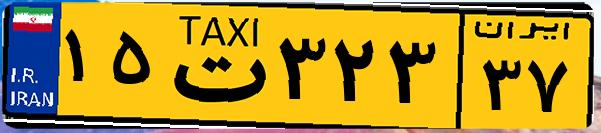1: (57, 26, 110, 100)
2: (330, 28, 385, 110)
3: (270, 28, 330, 110), (385, 28, 445, 110), (475, 38, 525, 113)
5: (110, 28, 158, 98)
7: (525, 38, 570, 115)
ت: (158, 12, 270, 120)
